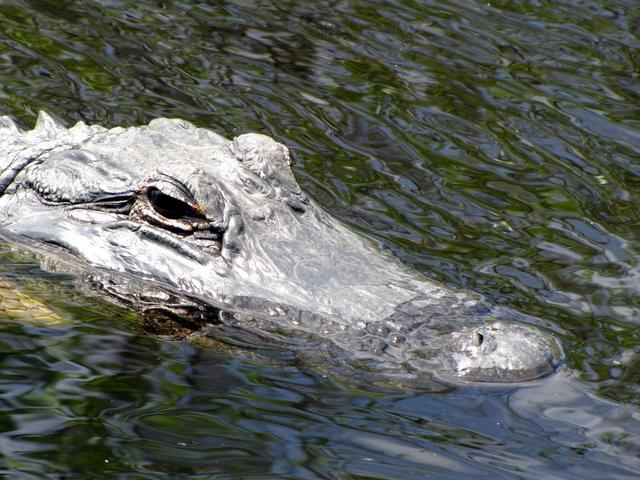crocodile: (13, 47, 640, 406)
